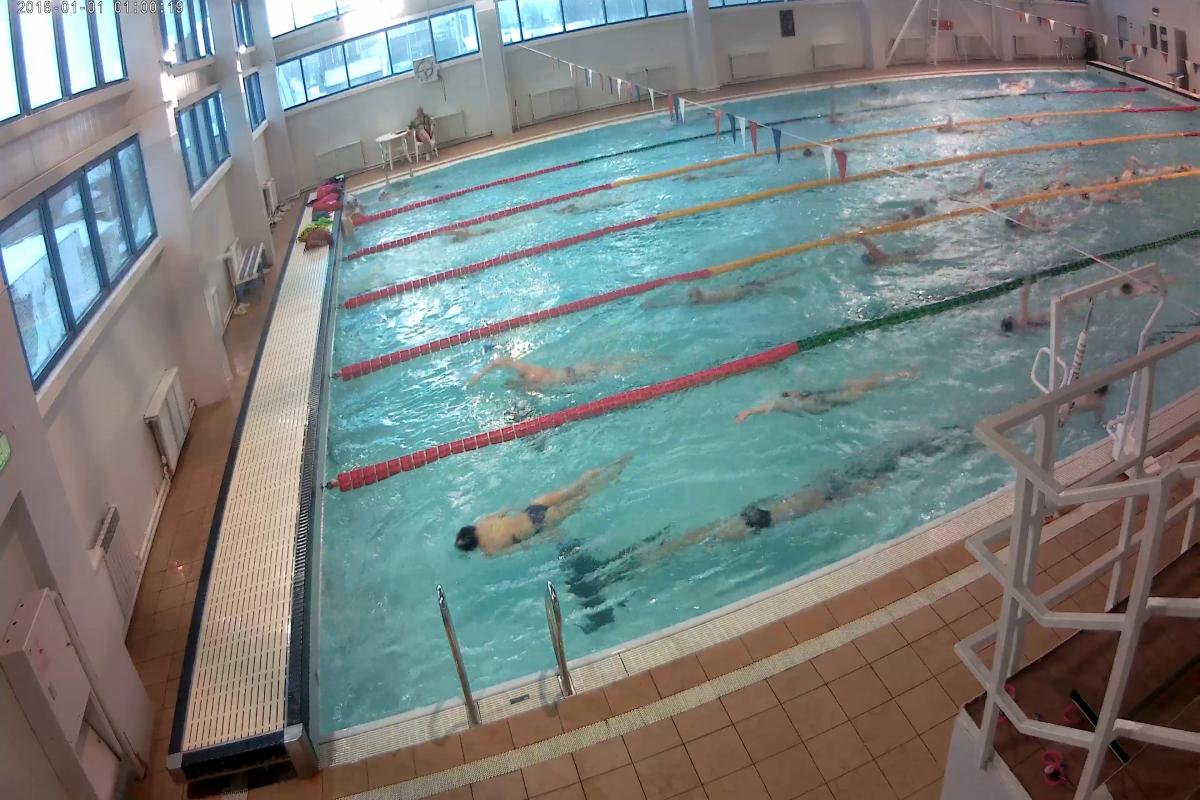swimmer: (458, 469, 624, 542), (702, 482, 850, 553), (742, 367, 912, 428), (472, 353, 626, 388), (672, 276, 792, 304), (1104, 266, 1164, 314), (996, 298, 1059, 339), (851, 241, 935, 271), (1002, 209, 1064, 236)
